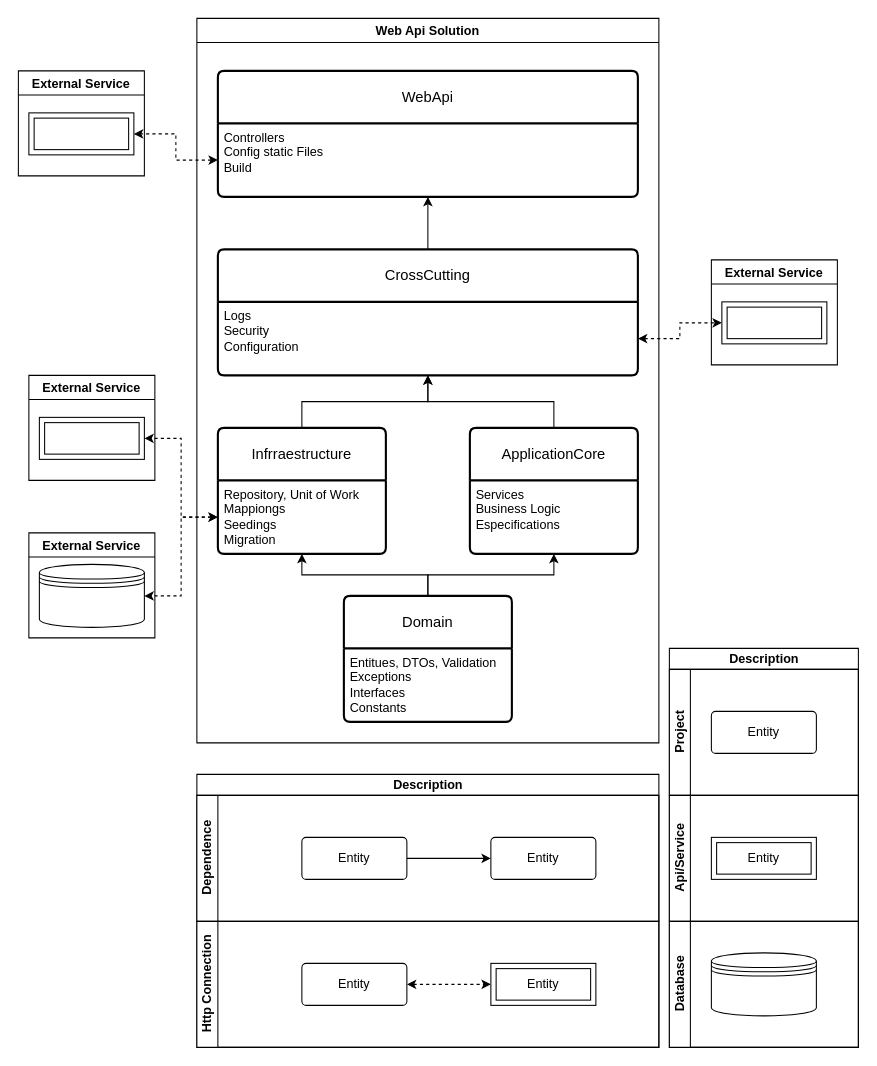
Some shapes in this 877 by 1066 pixel diagram are drawn without their labels. Each missing label, with the centre of its shape:
Auth Server: the point at 774,322
Front End: the point at 81,133
Http Client Api: the point at 91,437
